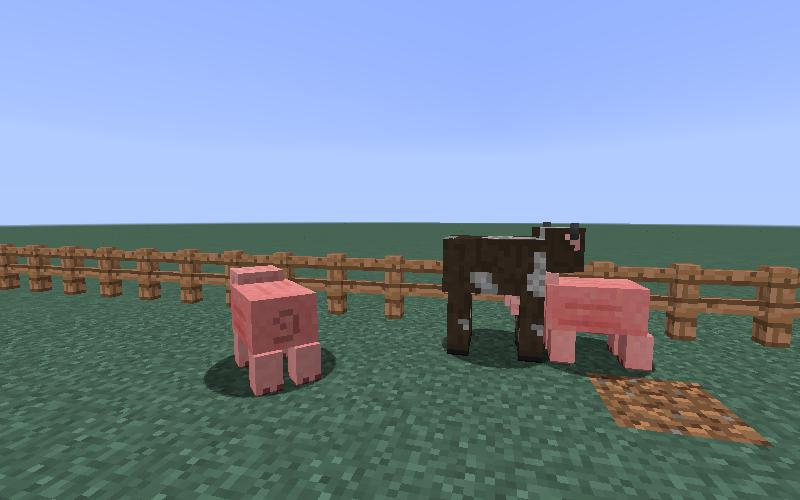cow: (439, 220, 587, 366)
pig: (222, 260, 327, 402), (547, 273, 654, 371)
